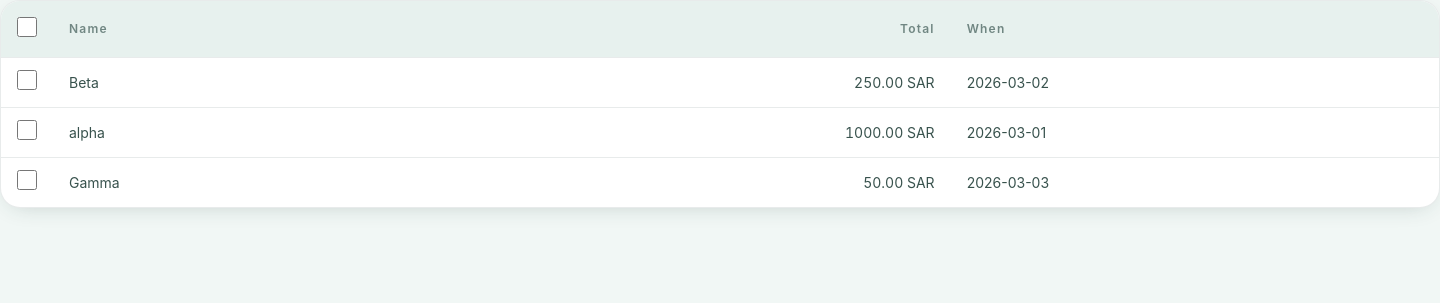
Test: _ui DataTable › supports bulk selection
Click the checkbox named "Select all rows on this page".
click(27, 26)  # box [17,16,37,36]
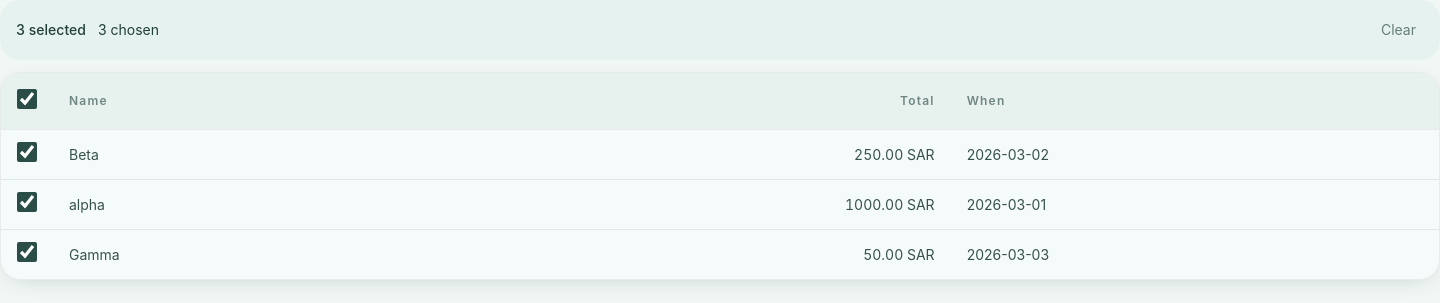
Expected: the text "3 selected" is shown, [16,20,86,40]
Expected: the text "3 chosen" is shown, [98,20,159,40]
